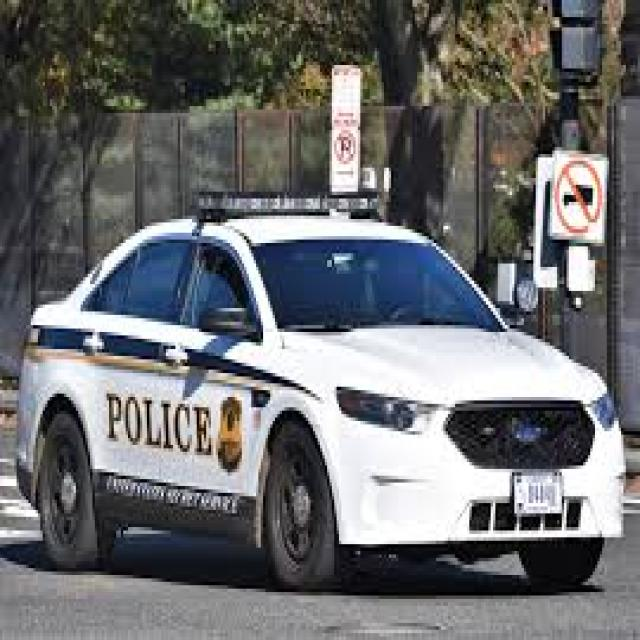cop: (11, 189, 628, 602)
